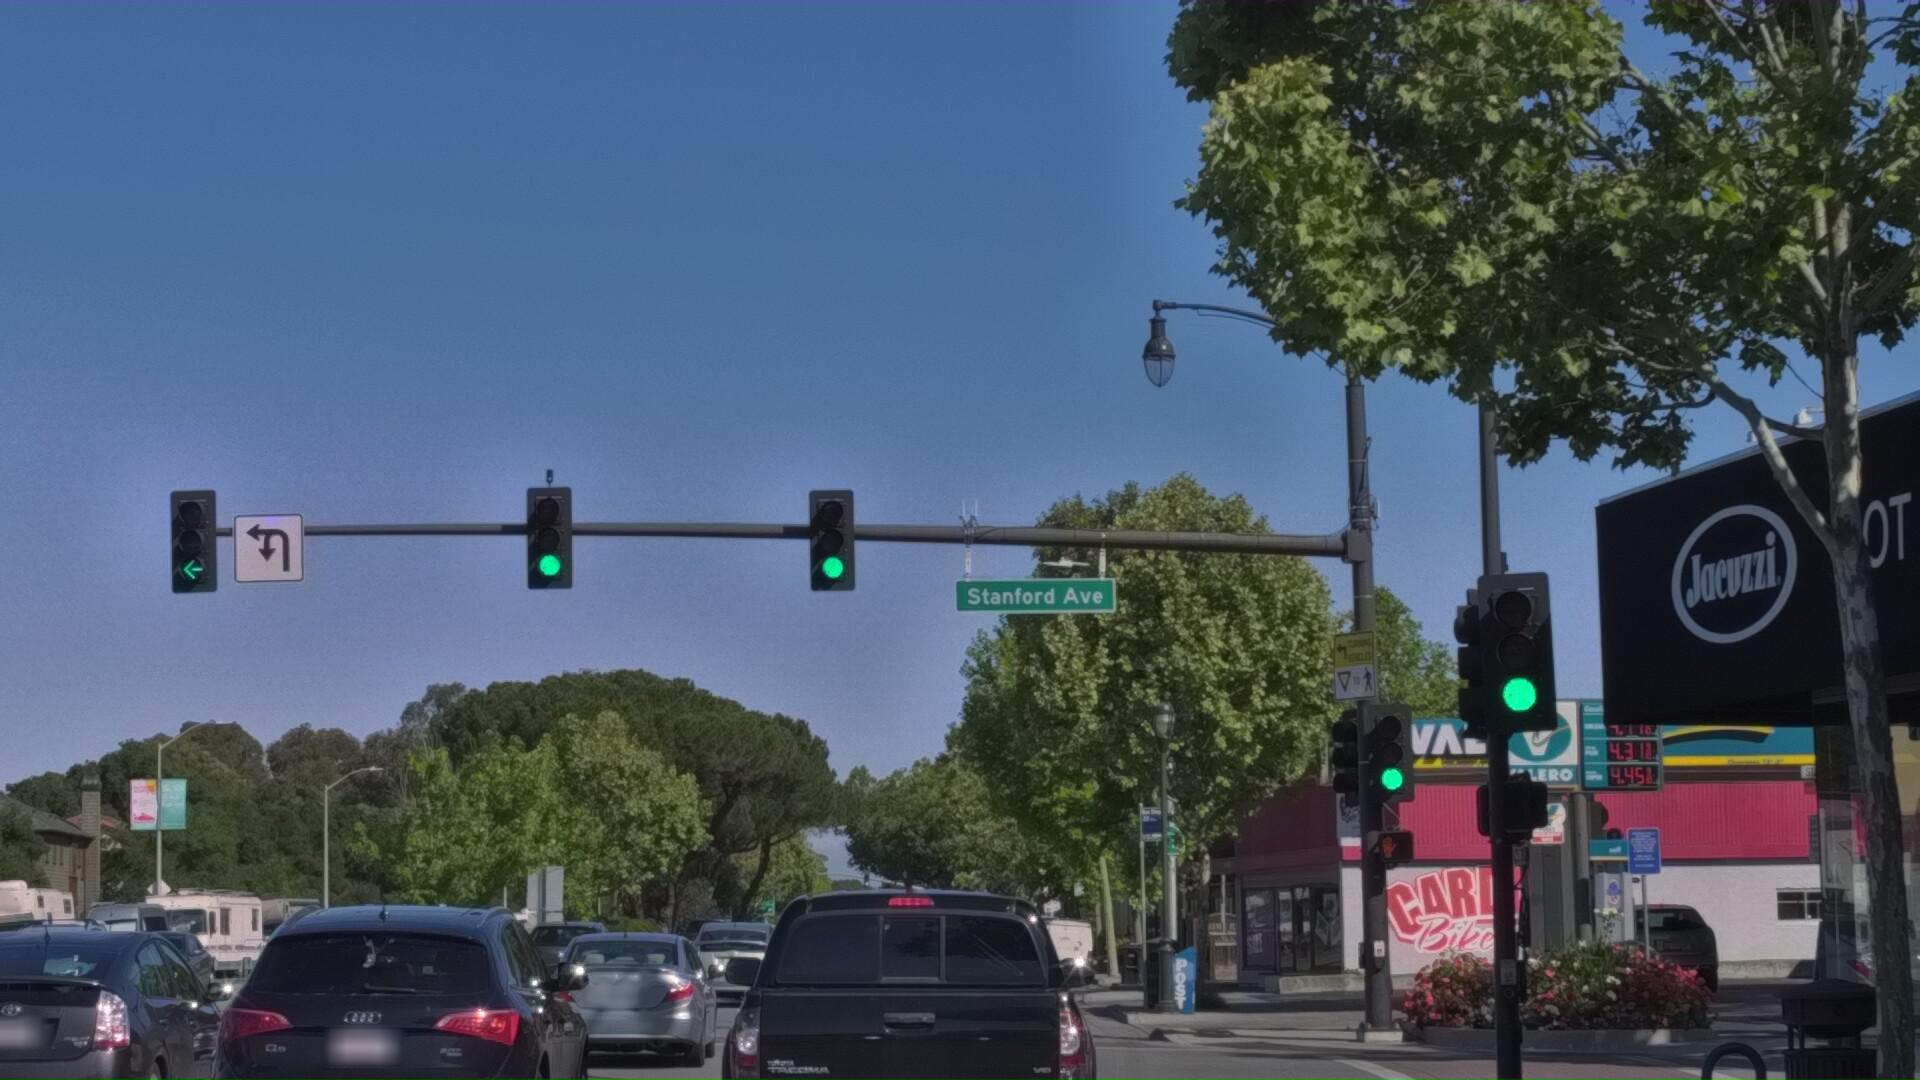car: (723, 939, 1118, 1080), (204, 963, 618, 1080), (0, 969, 258, 1080), (1571, 973, 1731, 1075), (526, 1014, 746, 1080), (0, 988, 145, 1080), (913, 1001, 1034, 1080), (670, 1018, 789, 1080)
